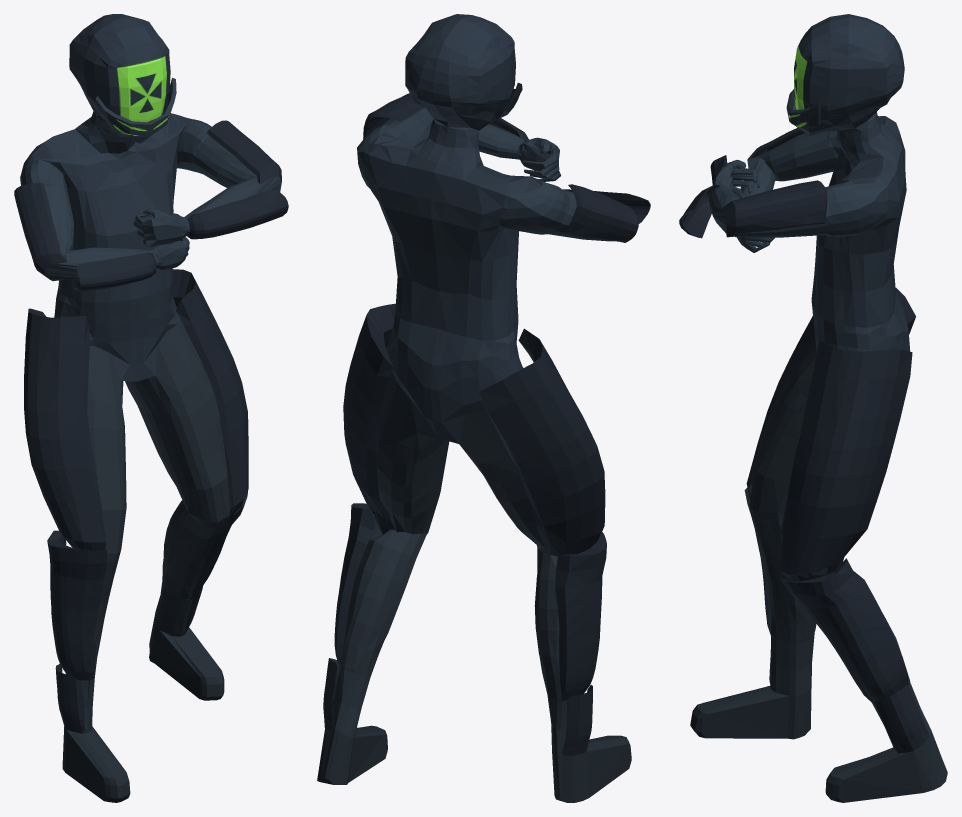
The model's file is Bastion_WF_000011.obj.
3 renders of one model, left to right at view 1: azimuth 30°, elevation 25°; view 2: azimuth 150°, elevation 25°; view 3: azimuth 270°, elevation 25°, orthographic. The views are drawn at different scales.
Parts seen in each view (by area): view 1: Cube.002; view 2: Cube.002; view 3: Cube.002.
Boxes of the visible parts, left/top/right/bottom form: Cube.002: left=14, top=14, right=288, bottom=802; Cube.002: left=317, top=14, right=650, bottom=802; Cube.002: left=679, top=14, right=947, bottom=802.
Bounding box in the file's own units: 1.33 × 3.8 × 1.23.
